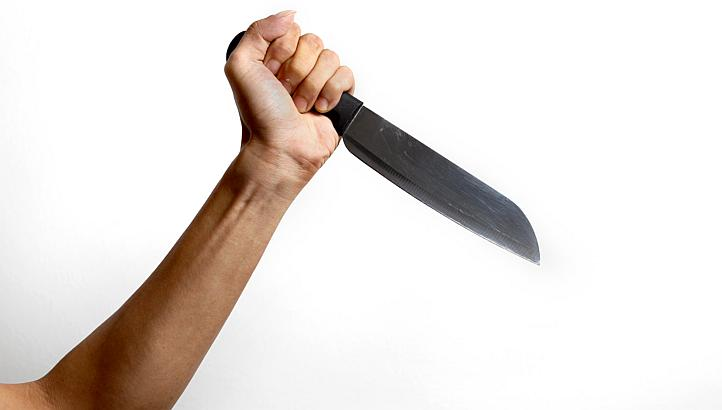knife: (273, 30, 548, 273)
